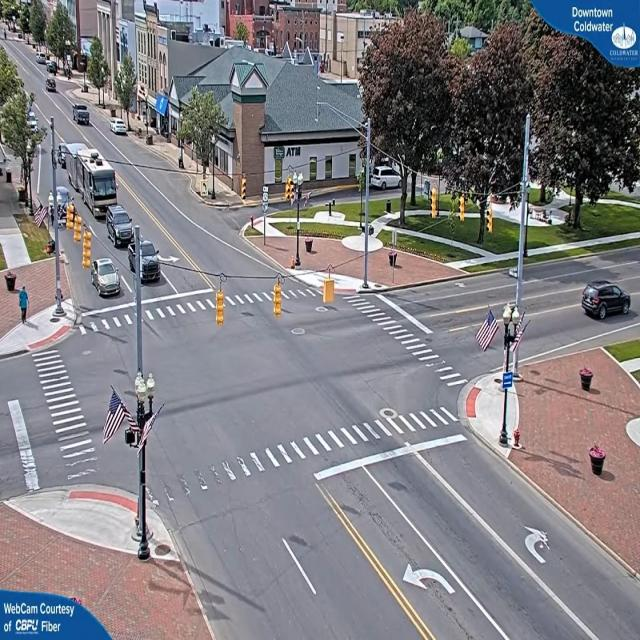car: (582, 280, 632, 321), (94, 259, 123, 298), (108, 210, 137, 247), (139, 240, 162, 284), (71, 105, 90, 127), (111, 119, 129, 136), (46, 79, 58, 93)
truck: (80, 162, 118, 218)
